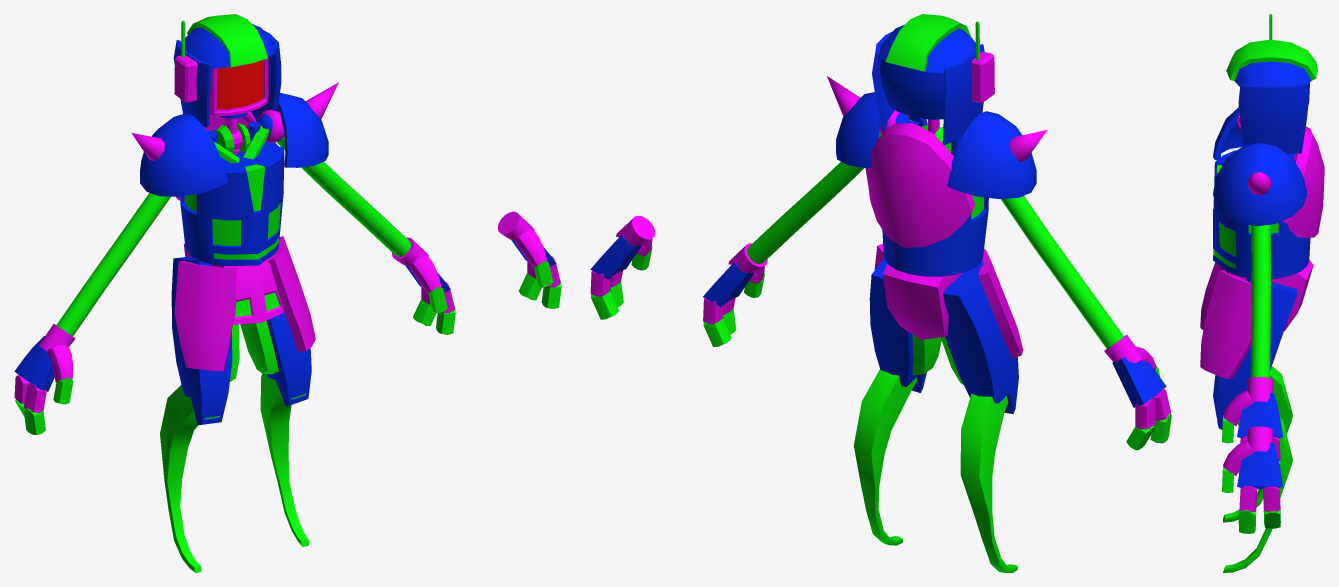
The model's file is RobotObject.obj.
3 views of the same model, side by side, from view 1: azimuth 30°, elevation 25°; view 2: azimuth 150°, elevation 25°; view 3: azimuth 270°, elevation 25° (orthographic). The views are drawn at different scales.
Visible parts, largest first — view 1: group4 TorsoMain, group4 ThighGuardL, group4 PauldronL1, group4 ThighL1, group4 LegLowerL, group4 HeadTop, group4 ThighL, group4 ArmL1, group4 LegLowerL1, group4 PauldronL, group4 HeadMain, ArmL group4 (+10 smaller); view 2: group4 PlateBack, group4 ThighL, group4 PauldronL1, group4 LegLowerL, group4 LegLowerL1, group4 HeadTop, group4 TorsoMain, group4 ThighL1, group4 ArmL1, group4 Pelvis, ArmL group4, group4 HeadBack (+9 smaller); view 3: group4 PauldronL, group4 ThighGuardL1, group4 HeadL1, group4 TorsoMain, group4 HeadTop, ArmL group4, group4 ThighL1, group4 PlateBack, group4 group5 HandL8, group4 HandL, group4 LegLowerL1, group4 LegLowerL (+14 smaller).
Part boxes in pixels (left/top/right/bottom): group4 TorsoMain: left=180, top=129, right=284, bottom=266; group4 ThighGuardL: left=174, top=261, right=236, bottom=370; group4 PauldronL1: left=140, top=113, right=228, bottom=196; group4 ThighL1: left=240, top=312, right=311, bottom=405; group4 LegLowerL: left=160, top=385, right=201, bottom=572; group4 HeadTop: left=185, top=14, right=274, bottom=68; group4 ThighL: left=171, top=256, right=239, bottom=425; group4 ArmL1: left=56, top=193, right=170, bottom=336; group4 LegLowerL1: left=260, top=373, right=309, bottom=546; group4 PauldronL: left=247, top=92, right=328, bottom=167; group4 HeadMain: left=209, top=57, right=268, bottom=115; ArmL group4: left=276, top=136, right=410, bottom=256; group4 PlateBack: left=865, top=123, right=974, bottom=247; group4 ThighL: left=940, top=261, right=1018, bottom=413; group4 PauldronL1: left=947, top=111, right=1036, bottom=199; group4 LegLowerL: left=960, top=393, right=1017, bottom=572; group4 LegLowerL1: left=853, top=369, right=917, bottom=545; group4 HeadTop: left=878, top=14, right=975, bottom=73; group4 TorsoMain: left=882, top=152, right=988, bottom=276; group4 ThighL1: left=869, top=258, right=941, bottom=393; group4 ArmL1: left=1001, top=196, right=1123, bottom=348; group4 Pelvis: left=882, top=264, right=962, bottom=339; ArmL group4: left=747, top=131, right=881, bottom=264; group4 HeadBack: left=879, top=59, right=944, bottom=119; group4 PauldronL: left=1213, top=143, right=1307, bottom=226; group4 ThighGuardL1: left=1200, top=270, right=1251, bottom=378; group4 HeadL1: left=1238, top=84, right=1308, bottom=154; group4 TorsoMain: left=1213, top=150, right=1310, bottom=278; group4 HeadTop: left=1226, top=39, right=1317, bottom=86; ArmL group4: left=1250, top=224, right=1271, bottom=377; group4 ThighL1: left=1213, top=278, right=1297, bottom=429; group4 PlateBack: left=1282, top=126, right=1324, bottom=237; group4 group5 HandL8: left=1237, top=442, right=1282, bottom=489; group4 HandL: left=1237, top=393, right=1282, bottom=437; group4 LegLowerL1: left=1223, top=417, right=1292, bottom=572; group4 LegLowerL: left=1223, top=366, right=1292, bottom=522.
Size of the model in its own units: 258 by 246 by 54.24.
